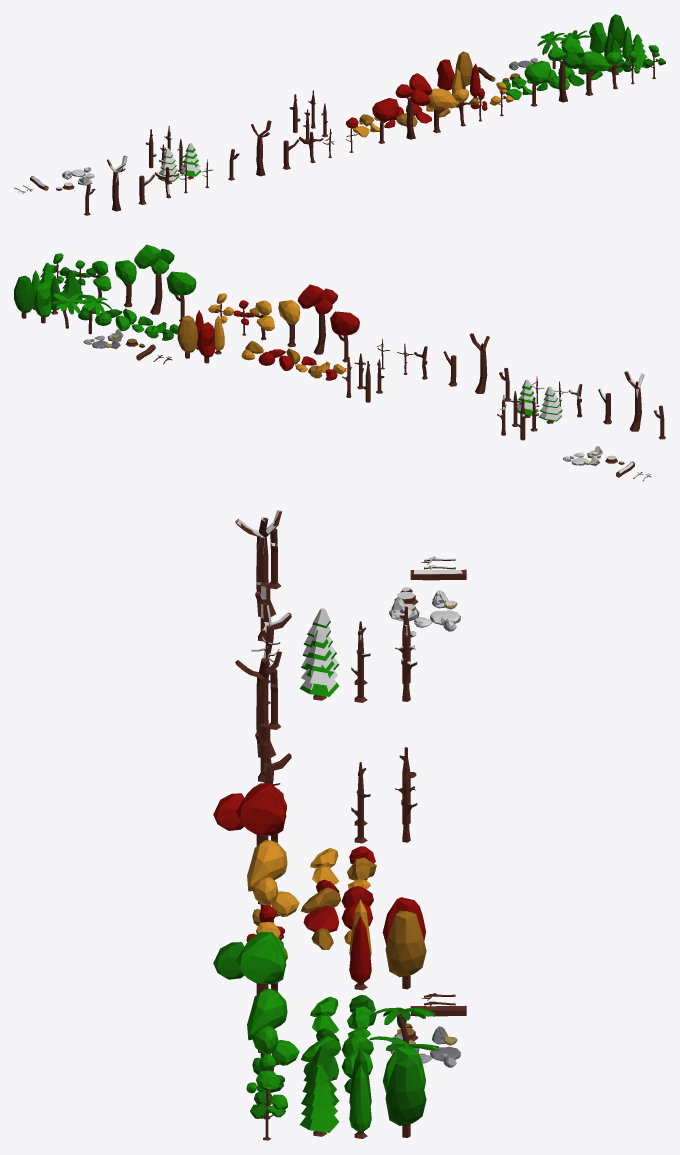
Rendered from Low poly forest.fbx.
3 renders of one model, top to bottom at view 1: azimuth 30°, elevation 25°; view 2: azimuth 150°, elevation 25°; view 3: azimuth 270°, elevation 25°, orthographic. The views are drawn at different scales.
Visible parts, largest first — view 1: Tree5.003, Tree5.000, Tree4.003, Tree4.000, Cylinder.001, Cylinder.031, Tree6.004, Cylinder.033, Cylinder.003, Cylinder, Tree1.014, Tree1.008 (+6 smaller); view 2: Tree5.003, Tree5.000, Cylinder.001, Cylinder.031, Cylinder.030, Cylinder, Tree4.003, Tree4.000, Tree6.005, Cylinder.033, Cylinder.003, Tree3.000 (+7 smaller); view 3: Tree5.000, Tree5.003, Cylinder.030, Cylinder, Tree6.004, Tree6.006, Tree4.000, Tree4.003, Tree1.003, Tree1.014, Tree3.003, Tree3.000 (+3 smaller).
Part boxes in pixels (x1,y1,x2,y2): Tree5.003: [548, 36, 584, 102]; Tree5.000: [395, 73, 432, 139]; Tree4.003: [578, 51, 609, 95]; Tree4.000: [425, 88, 456, 133]; Cylinder.001: [372, 98, 398, 143]; Cylinder.031: [524, 60, 551, 106]; Tree6.004: [180, 143, 201, 179]; Cylinder.033: [589, 22, 606, 53]; Cylinder.003: [436, 59, 454, 90]; Cylinder: [455, 51, 472, 89]; Tree1.014: [107, 155, 127, 211]; Tree1.008: [251, 120, 271, 176]; Tree5.003: [134, 244, 174, 314]; Tree5.000: [297, 284, 337, 354]; Cylinder.001: [330, 311, 359, 362]; Cylinder.031: [166, 271, 196, 321]; Cylinder.030: [14, 275, 34, 318]; Cylinder: [177, 315, 197, 358]; Tree4.003: [115, 260, 136, 307]; Tree4.000: [278, 300, 300, 347]; Tree6.005: [538, 386, 562, 423]; Cylinder.033: [33, 282, 51, 323]; Cylinder.003: [197, 322, 214, 363]; Tree3.000: [249, 300, 274, 340]; Tree5.000: [213, 783, 286, 904]; Tree5.003: [213, 932, 286, 1052]; Cylinder.030: [385, 1059, 426, 1137]; Cylinder: [385, 910, 426, 989]; Tree6.004: [300, 628, 338, 700]; Tree6.006: [299, 1065, 338, 1136]; Tree4.000: [247, 840, 287, 908]; Tree4.003: [247, 989, 287, 1057]; Tree1.003: [250, 1070, 287, 1140]; Tree1.014: [235, 510, 281, 616]; Tree3.003: [252, 1025, 299, 1074]; Tree3.000: [252, 877, 299, 925].
Size of the model in its own units: 67.92 by 6.79 by 12.33.
